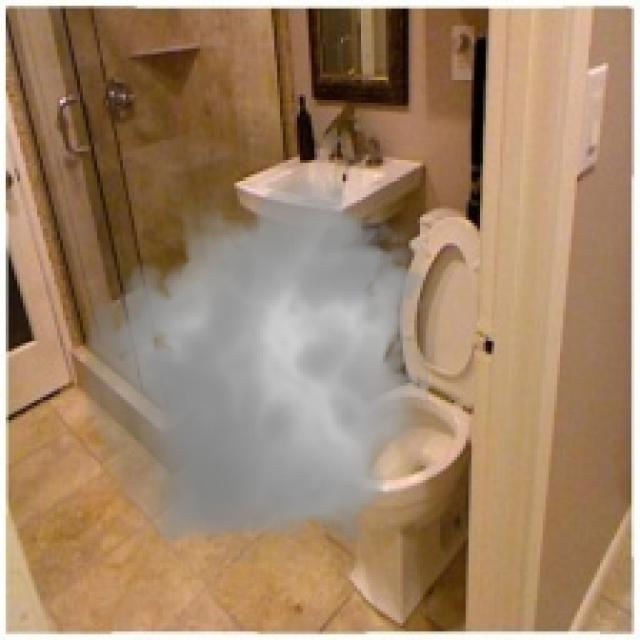smoke: (71, 163, 446, 563)
